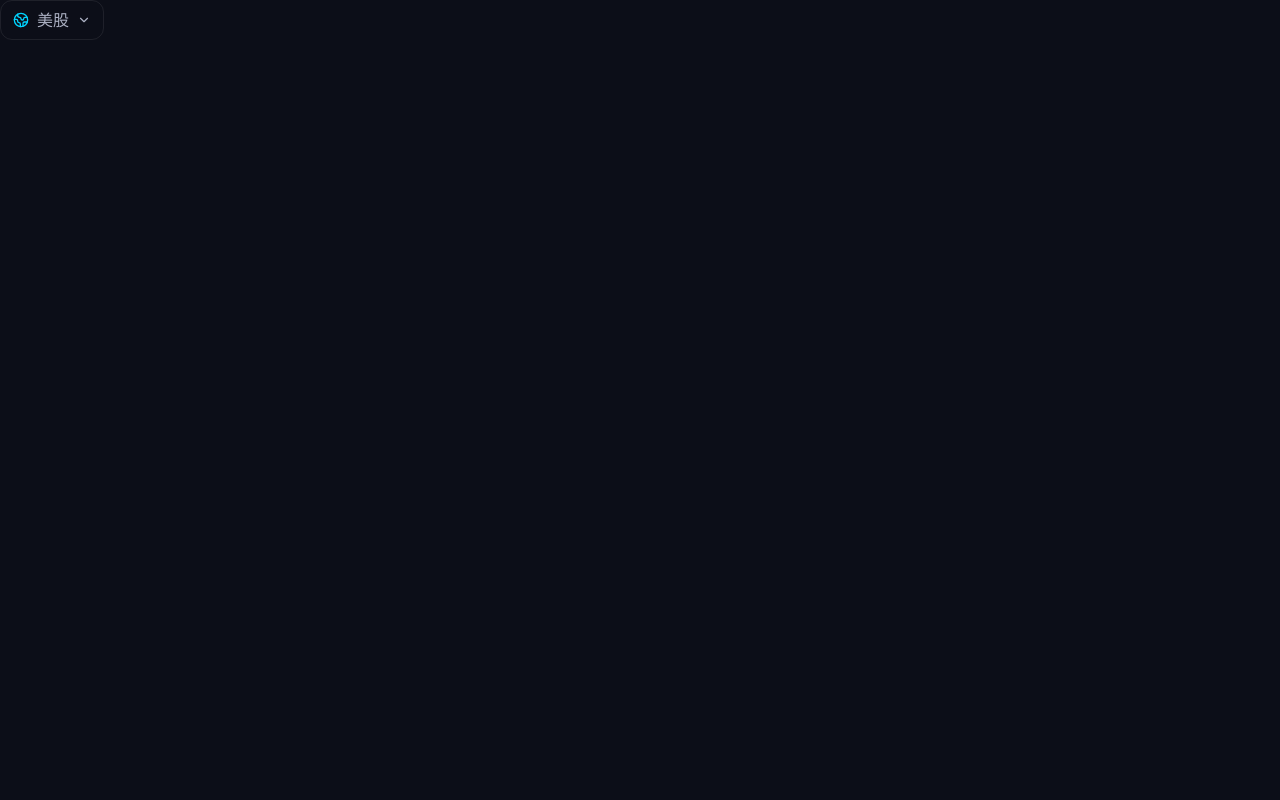
Test case: MarketReviewRegionSelector › closes an open menu and blocks every option when disabled
Later steps or results of the test are not shown.
Click the button with aria-label "选择大盘复盘市场": [52, 20] box x1=0 y1=0 x2=104 y2=40
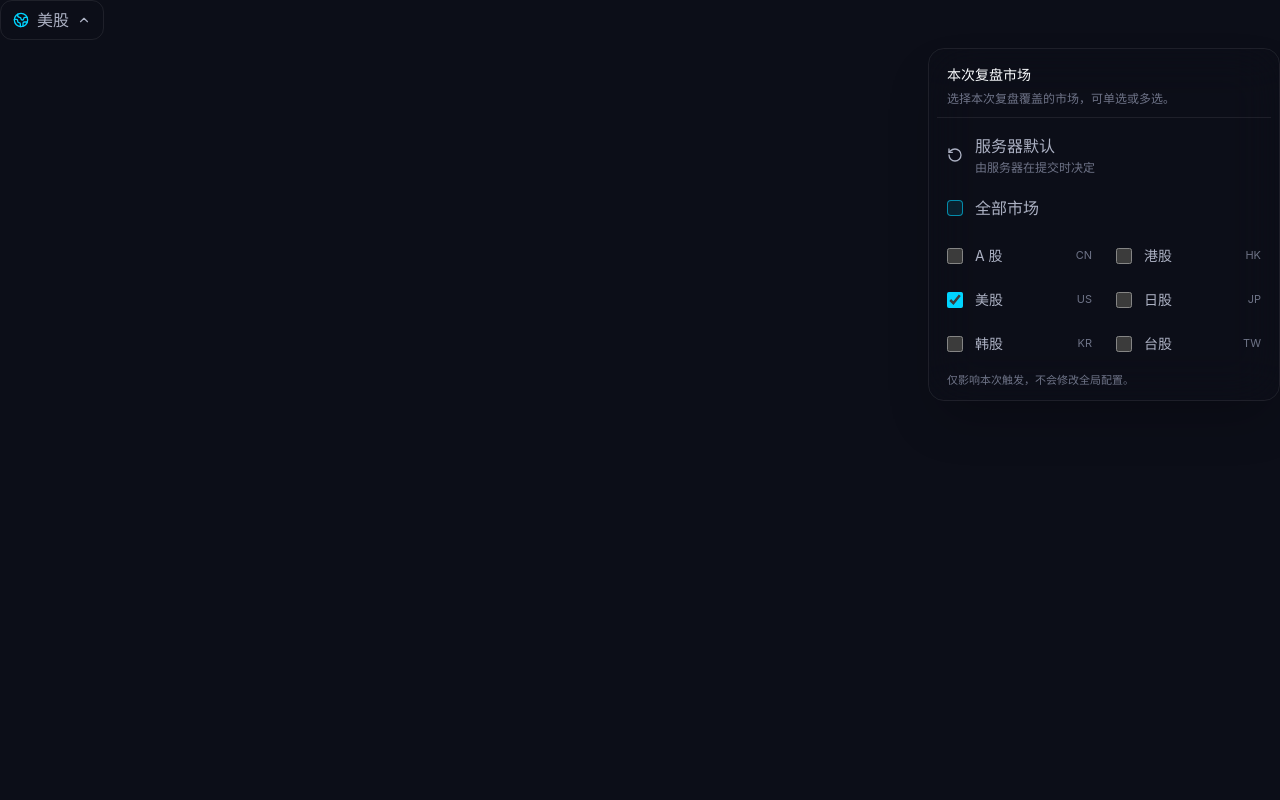
Now the dialog is shown, box x1=928 y1=48 x2=1279 y2=401
